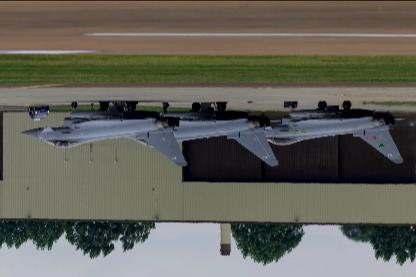E2: (21, 102, 189, 166), (124, 102, 282, 166), (264, 101, 406, 163)
